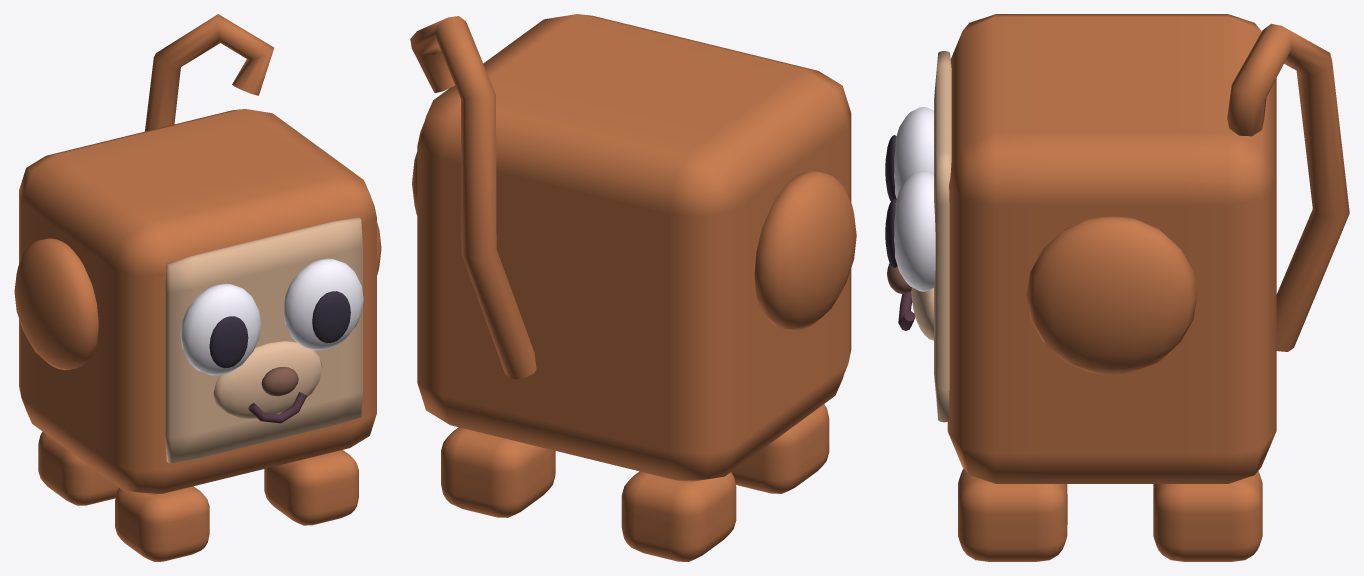
The model's file is pet-monkey.glb.
3 views of the same model, side by side, from view 1: azimuth 30°, elevation 25°; view 2: azimuth 150°, elevation 25°; view 3: azimuth 270°, elevation 25° (orthographic). The views are drawn at different scales.
Visible parts, largest first — view 1: body, face_mask, ear_-1, foot_L_front, curled_tail, foot_R_front, muzzle, eye_white_-1, eye_white_1, foot_L_back, pupil_-1, pupil_1 (+2 smaller); view 2: body, curled_tail, ear_-1, foot_L_back, foot_R_back, foot_L_front; view 3: body, ear_1, curled_tail, foot_R_front, foot_R_back, face_mask, eye_white_1, eye_white_-1, muzzle, pupil_1.
Part boxes in pixels (bbox=[...]): body: bbox=[19, 109, 376, 494]; face_mask: bbox=[165, 217, 362, 463]; ear_-1: bbox=[14, 238, 98, 370]; foot_L_front: bbox=[115, 486, 209, 561]; curled_tail: bbox=[145, 14, 273, 131]; foot_R_front: bbox=[264, 450, 358, 525]; muzzle: bbox=[213, 341, 322, 419]; eye_white_-1: bbox=[180, 283, 260, 375]; eye_white_1: bbox=[283, 258, 363, 350]; foot_L_back: bbox=[38, 431, 118, 505]; pupil_-1: bbox=[209, 316, 248, 368]; pupil_1: bbox=[312, 291, 350, 343]; body: bbox=[417, 14, 851, 481]; curled_tail: bbox=[410, 16, 536, 379]; ear_-1: bbox=[754, 171, 856, 330]; foot_L_back: bbox=[621, 471, 736, 561]; foot_R_back: bbox=[441, 427, 555, 517]; foot_L_front: bbox=[731, 404, 829, 493]; body: bbox=[947, 14, 1276, 483]; ear_1: bbox=[1026, 216, 1197, 374]; curled_tail: bbox=[1227, 23, 1349, 351]; foot_R_front: bbox=[958, 468, 1067, 561]; foot_R_back: bbox=[1153, 471, 1262, 561]; face_mask: bbox=[934, 51, 951, 422]; eye_white_1: bbox=[894, 170, 935, 291]; eye_white_-1: bbox=[894, 107, 933, 198]; muzzle: bbox=[911, 287, 933, 340]; pupil_1: bbox=[885, 199, 897, 267].
Bounding box in the file's own units: 1.44 × 1.71 × 1.36.
